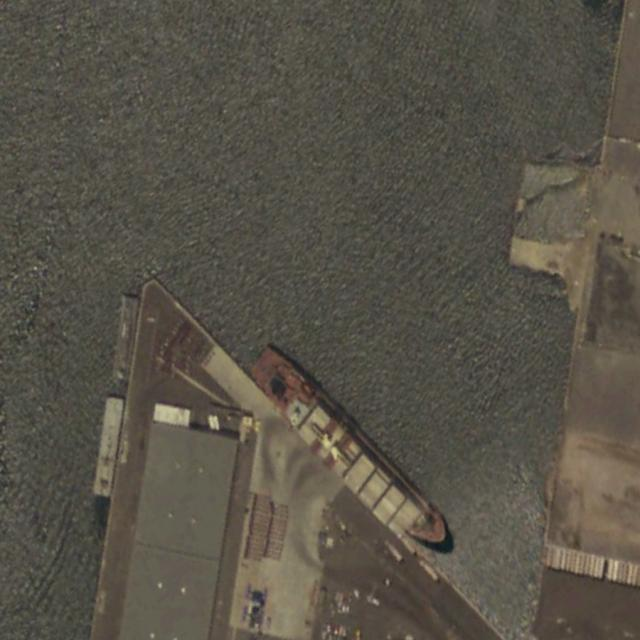Other Ship: (241, 334, 454, 569)
